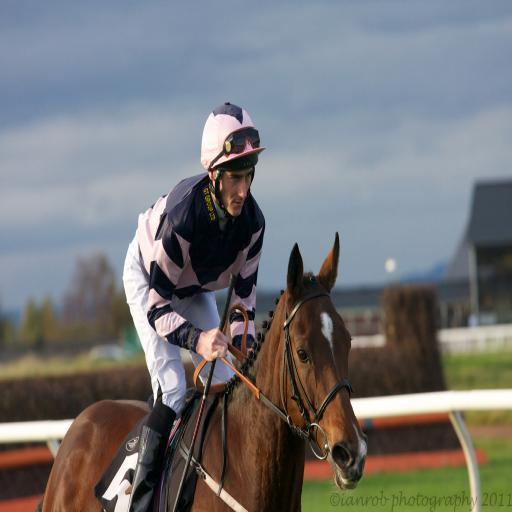horse: (36, 227, 370, 512)
